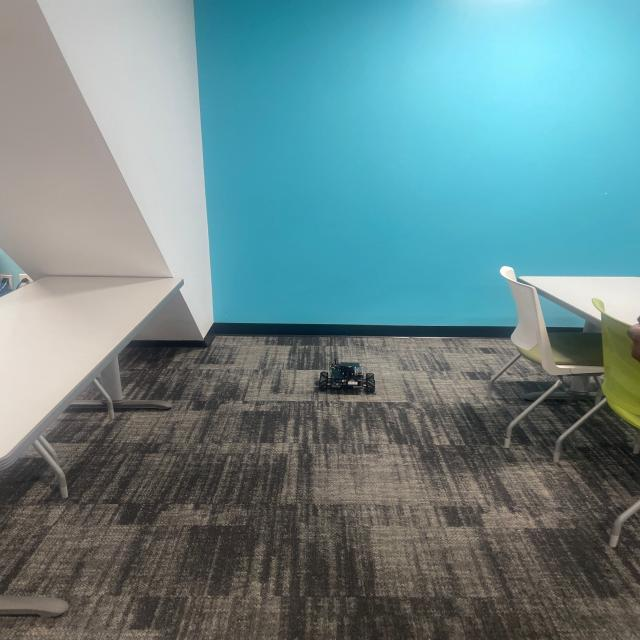ArduinoCar3: (313, 357, 383, 398)
